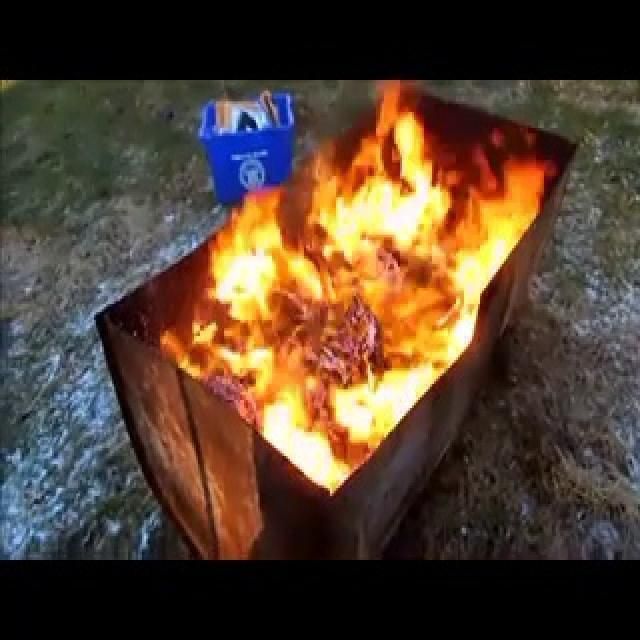Fire: (193, 84, 541, 498)
